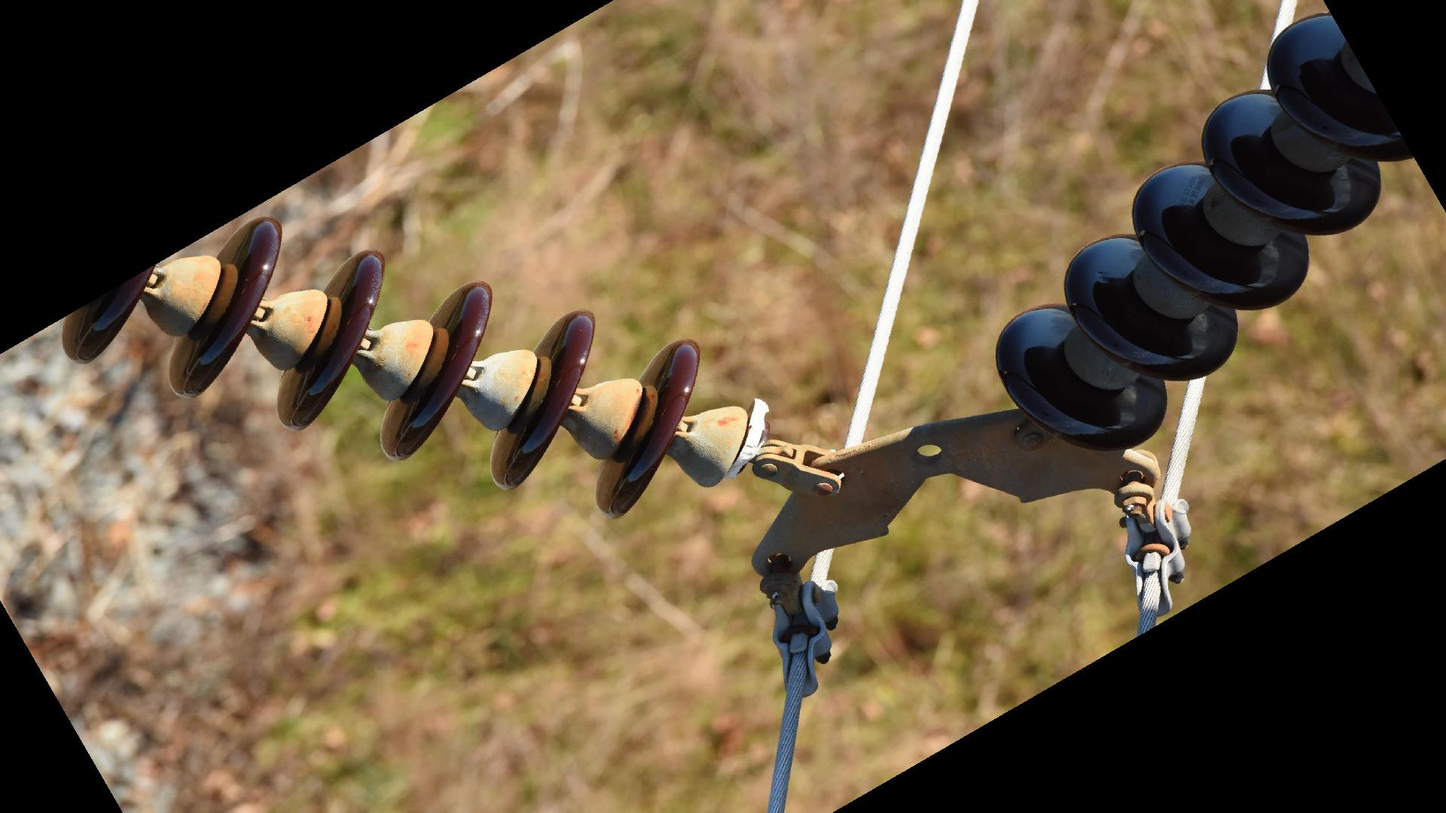insulator: (56, 212, 706, 527), (987, 12, 1417, 454)
